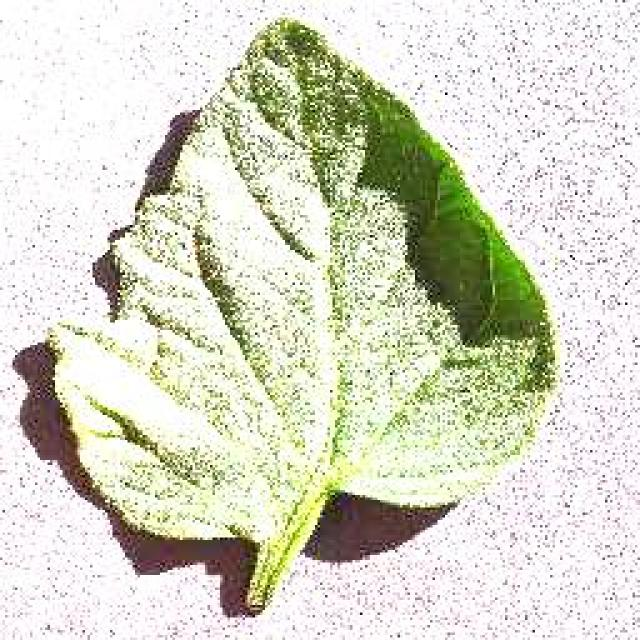Tomato___healthy: (43, 15, 561, 612)
